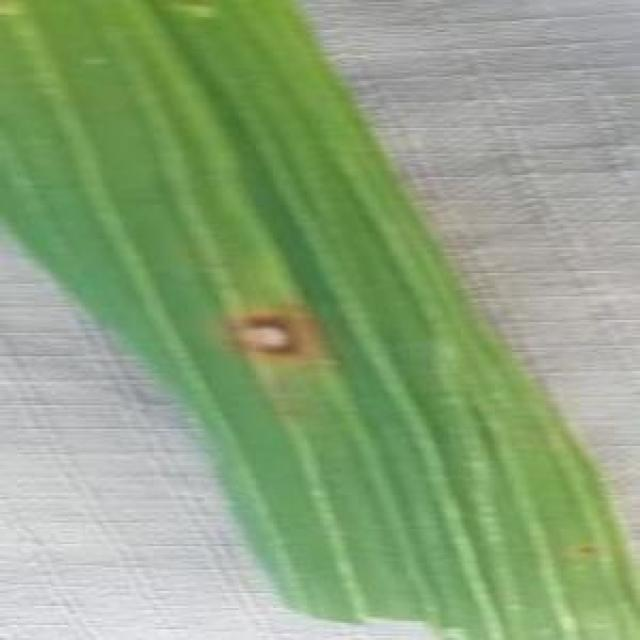Brown_Spot: (214, 304, 312, 368)
